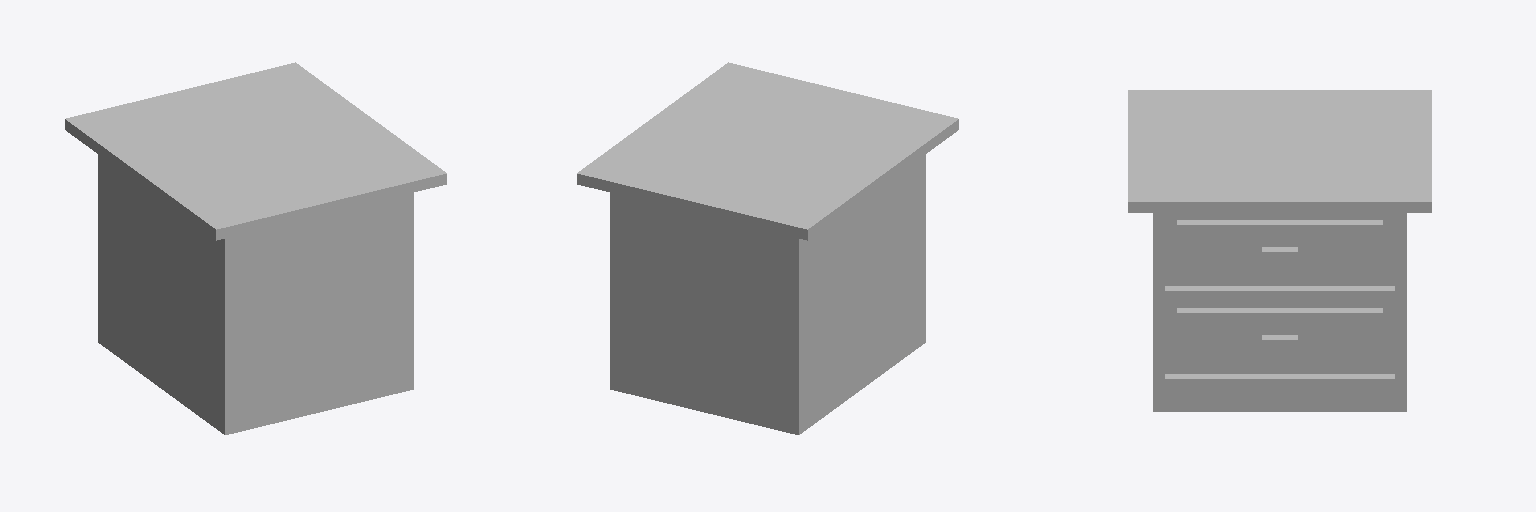
The model's file is Meuble petit(marron).obj.
3 renders of one model, left to right at view 1: azimuth 30°, elevation 25°; view 2: azimuth 150°, elevation 25°; view 3: azimuth 270°, elevation 25°, orthographic.
Parts seen in each view (by area): view 1: object 1; view 2: object 1; view 3: object 1.
Boxes of the visible parts, x1=… form: object 1: x1=65, y1=62, x2=446, y2=434; object 1: x1=577, y1=62, x2=958, y2=434; object 1: x1=1128, y1=90, x2=1431, y2=411.
Size of the model in its own units: 2.2 by 2 by 2.5.